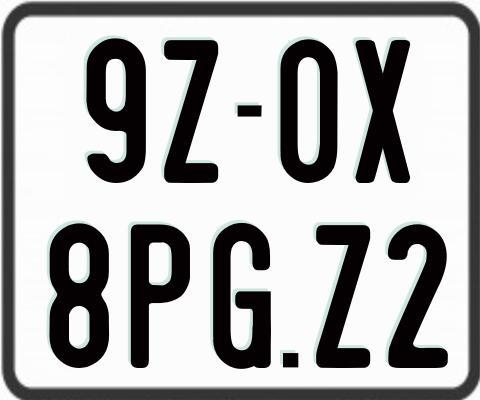0: (280, 37, 342, 182)
2: (385, 221, 445, 367)
8: (49, 220, 115, 371)
9: (86, 38, 147, 184)
G: (211, 223, 274, 370)
P: (129, 221, 190, 366)
X: (355, 37, 412, 180)
Z: (162, 40, 221, 185), (313, 225, 369, 372)
